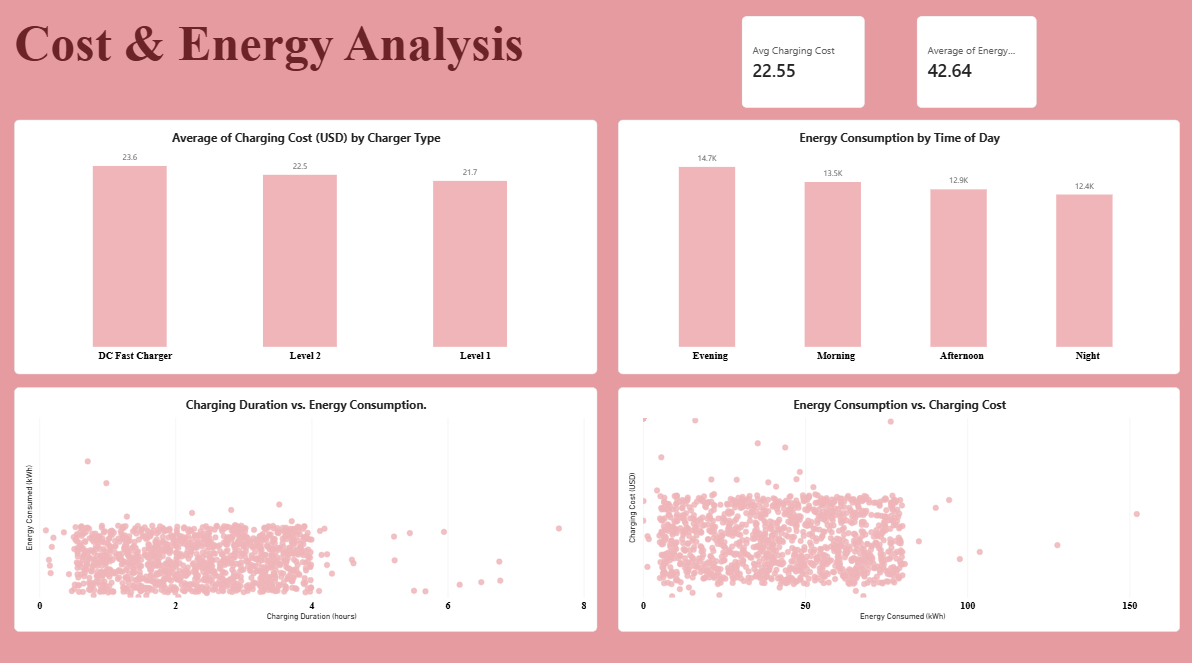

The page's visual inventory and layout, read from the dashboard file:
{"tool":"powerbi","page":{"name":"Cost & Energy Analysis","canvas":[1920,1080],"ordinal":2},"visuals":[{"type":"cardVisual","fields":{"Data":["ev_charging_patterns.Avg Charging Cost"]},"box":[1190.6,31,197.5,147.5],"z":0},{"type":"cardVisual","fields":{"Data":["Avg(ev_charging_patterns.Energy Consumed (kWh))"]},"box":[1469.7,31,192.5,147.5],"z":1},{"type":"clusteredColumnChart","fields":{"Category":["ev_charging_patterns.Charger Type"],"Y":["Avg(ev_charging_patterns.Charging Cost (USD))"]},"box":[26.8,197.6,932.4,407.5],"z":2},{"type":"clusteredColumnChart","title":"Energy Consumption by Time of Day","fields":{"Category":["ev_charging_patterns.Time of Day"],"Y":["Sum(ev_charging_patterns.Energy Consumed (kWh))"]},"box":[992.1,197.6,899.5,407.5],"z":3},{"type":"scatterChart","title":"Energy Consumption vs. Charging Cost","fields":{"X":["ev_charging_patterns.Energy Consumed (kWh)"],"Y":["ev_charging_patterns.Charging Cost (USD)"]},"box":[992.1,625.7,899.5,391.1],"z":4},{"type":"scatterChart","title":"Charging Duration vs. Energy Consumption.","fields":{"X":["ev_charging_patterns.Charging Duration (hours)"],"Y":["ev_charging_patterns.Energy Consumed (kWh)"]},"box":[26.8,625.7,932.4,391.1],"z":5},{"type":"textbox","box":[26.8,30.9,854.2,111.1],"z":6}]}

Visuals, with their boxes in screenshot pixels (x1, y1, x2, y2), scaled from the page's 1920x1080 canvas onto the 1192x663 screenshot:
cardVisual - ev_charging_patterns.Avg Charging Cost: detection(739, 19, 862, 110)
cardVisual - Avg(ev_charging_patterns.Energy Consumed (kWh)): detection(912, 19, 1032, 110)
clusteredColumnChart - ev_charging_patterns.Charger Type x Avg(ev_charging_patterns.Charging Cost (USD)): detection(17, 121, 596, 371)
"Energy Consumption by Time of Day" clusteredColumnChart: detection(616, 121, 1174, 371)
"Energy Consumption vs. Charging Cost" scatterChart: detection(616, 384, 1174, 624)
"Charging Duration vs. Energy Consumption." scatterChart: detection(17, 384, 596, 624)
textbox: detection(17, 19, 547, 87)
